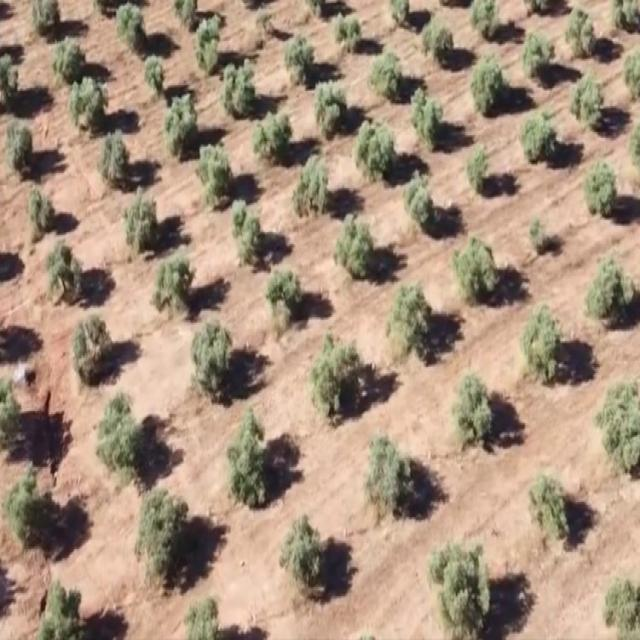trees: (131, 467, 202, 600), (356, 420, 421, 538), (424, 537, 497, 640), (585, 366, 640, 495), (94, 374, 153, 489), (305, 322, 365, 431), (275, 495, 333, 606), (585, 242, 640, 359), (66, 300, 125, 406), (387, 259, 440, 373), (442, 362, 500, 466), (223, 398, 276, 507), (521, 458, 574, 566), (186, 308, 243, 406), (139, 241, 207, 323), (514, 299, 566, 396), (1, 452, 49, 552), (263, 258, 309, 354), (251, 93, 298, 179), (190, 135, 239, 217), (451, 229, 502, 306), (289, 136, 335, 220), (512, 94, 561, 172), (43, 232, 88, 315), (212, 54, 264, 125), (398, 161, 445, 239), (566, 70, 613, 145), (85, 127, 141, 189), (580, 146, 616, 241), (160, 87, 206, 161), (460, 129, 504, 205), (118, 184, 166, 253), (330, 202, 377, 272), (354, 115, 398, 188), (362, 40, 408, 106), (404, 82, 445, 156), (22, 174, 64, 246), (180, 14, 224, 82), (1, 114, 43, 183), (106, 0, 149, 67), (231, 201, 266, 282), (312, 70, 352, 139), (418, 3, 461, 64), (467, 49, 506, 116), (278, 20, 316, 87), (68, 70, 111, 128), (523, 200, 561, 262), (517, 28, 559, 83), (329, 0, 369, 57), (464, 0, 508, 51), (566, 0, 599, 65), (49, 34, 90, 81), (140, 48, 172, 102)
